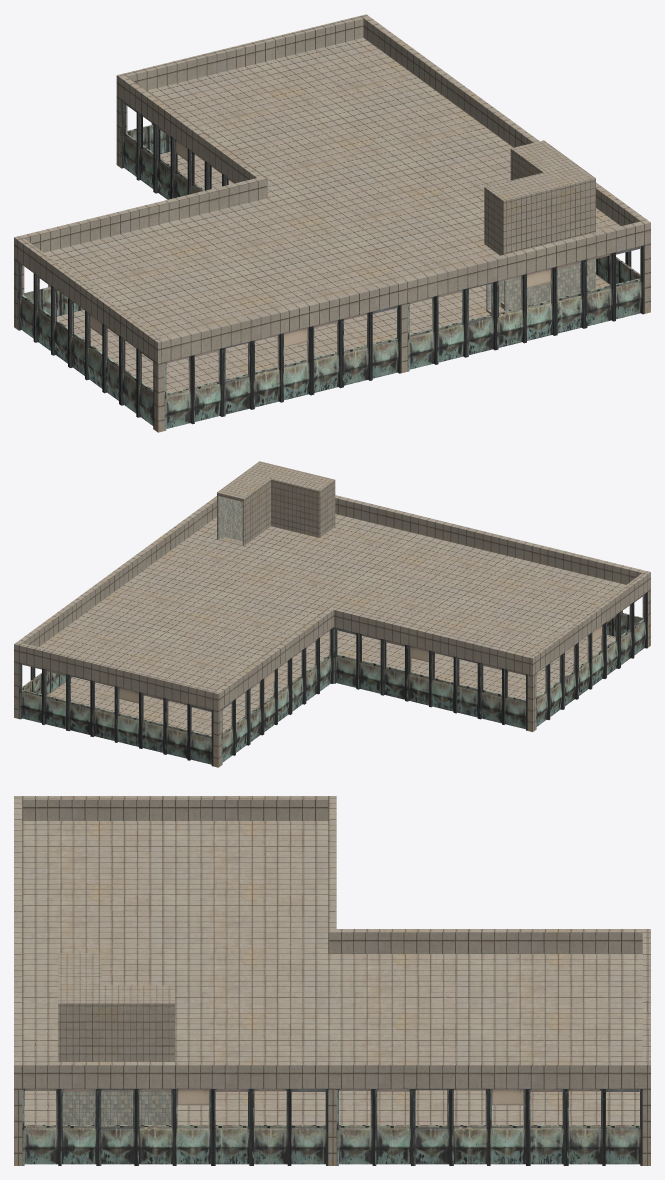
Rendered from BagSS09top_high.fbx.
The picture shows the model from 3 angles, top to bottom: view 1: azimuth 30°, elevation 25°; view 2: azimuth 150°, elevation 25°; view 3: azimuth 270°, elevation 25°; orthographic projection. The views are drawn at different scales.
Parts seen in each view (by area): view 1: topCrete700, topMain700, topInnerWall700, topStairWell700; view 2: topCrete700, topMain700, topInnerWall700, topStairWell700; view 3: topCrete700, topMain700, topStairWell700, topInnerWall700.
Boxes of the visible parts, bbox=[...] form: topCrete700: bbox=[14, 14, 650, 432]; topMain700: bbox=[17, 99, 644, 430]; topInnerWall700: bbox=[22, 124, 640, 395]; topStairWell700: bbox=[486, 259, 595, 311]; topCrete700: bbox=[14, 461, 650, 767]; topMain700: bbox=[19, 592, 647, 766]; topInnerWall700: bbox=[22, 612, 643, 737]; topStairWell700: bbox=[218, 496, 242, 541]; topCrete700: bbox=[14, 796, 650, 1165]; topMain700: bbox=[22, 1089, 642, 1165]; topStairWell700: bbox=[63, 1090, 171, 1124]; topInnerWall700: bbox=[24, 1125, 639, 1128].
Bounding box in the file's own units: 40.92 × 10.15 × 40.92.
